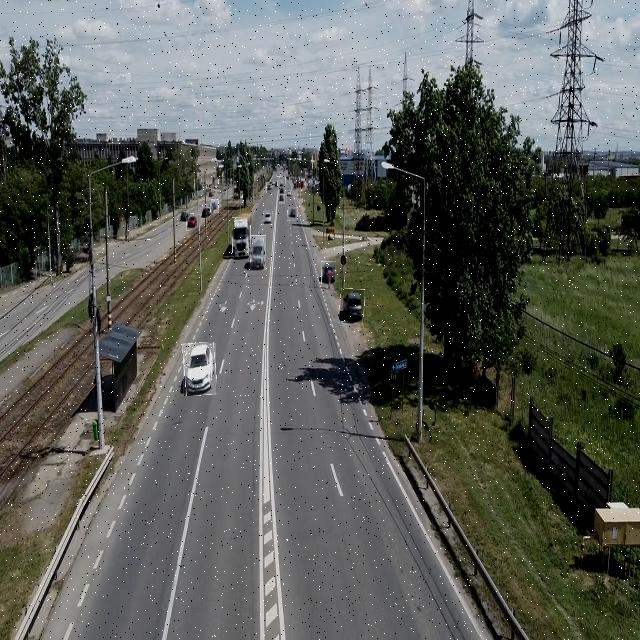Car: (183, 343, 216, 395), (340, 289, 364, 322), (321, 261, 336, 284), (187, 214, 200, 231), (263, 211, 273, 225), (288, 207, 298, 221), (211, 199, 219, 213), (180, 212, 190, 222), (202, 207, 210, 218), (278, 176, 286, 187), (286, 186, 292, 198), (266, 183, 273, 193), (279, 194, 285, 204)
Truck: (233, 217, 251, 260), (250, 235, 266, 270)
